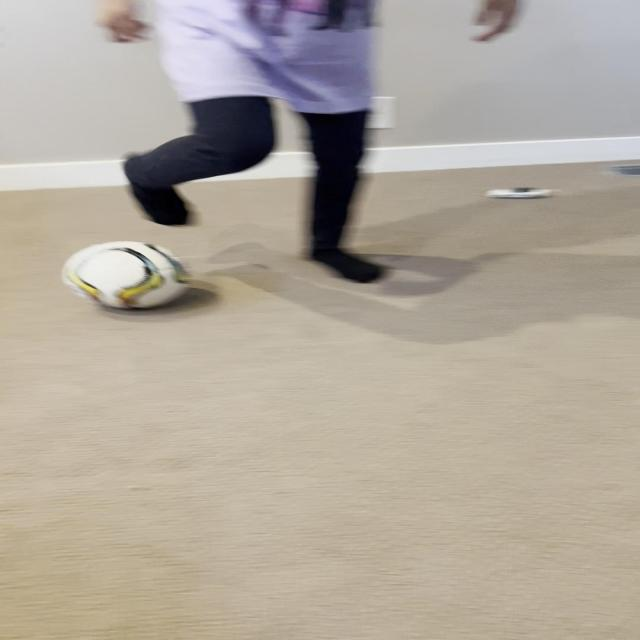Soccer Ball: (62, 240, 193, 310)
